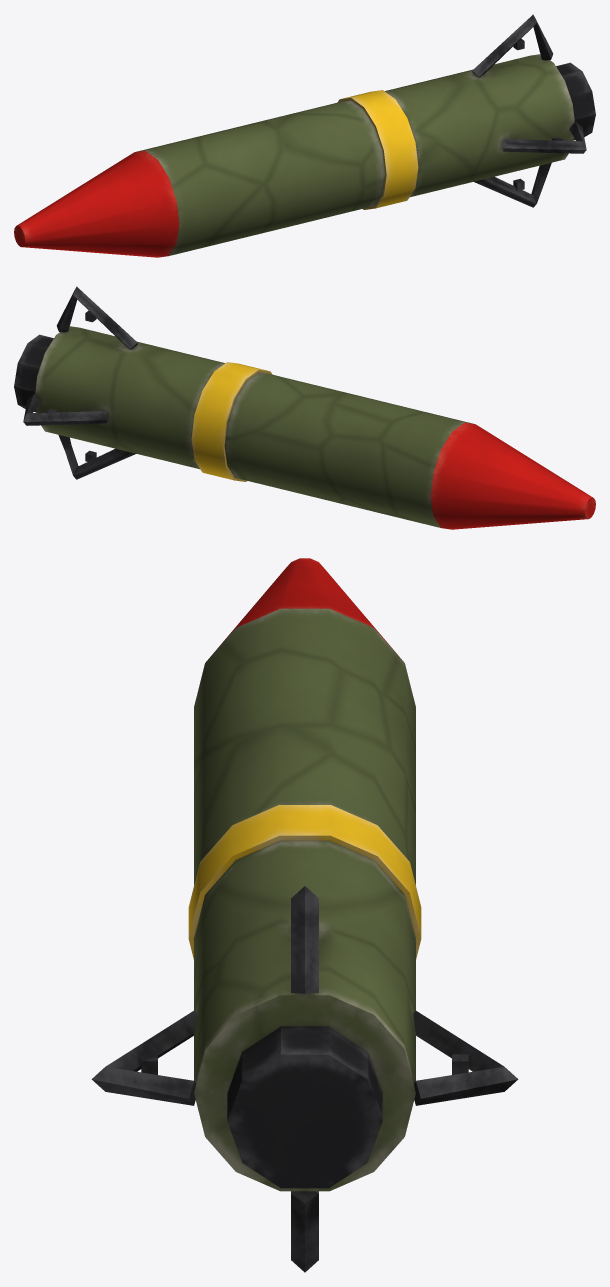
The model's file is pk_rocket.glb.
3 renders of one model, top to bottom at view 1: azimuth 30°, elevation 25°; view 2: azimuth 150°, elevation 25°; view 3: azimuth 270°, elevation 25°, orthographic. The views are drawn at different scales.
Visible parts, largest first — view 1: pk_rocket; view 2: pk_rocket; view 3: pk_rocket.
Part boxes in pixels (x1,y1,x2,y2): pk_rocket: (14, 14, 595, 257); pk_rocket: (14, 286, 595, 529); pk_rocket: (91, 558, 518, 1272).
Bounding box in the file's own units: 0.725 × 0.2406 × 0.2406.
1 material, 1 textured.
